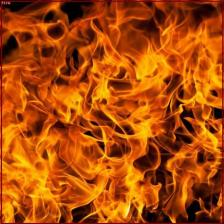fire: (1, 0, 223, 224)
